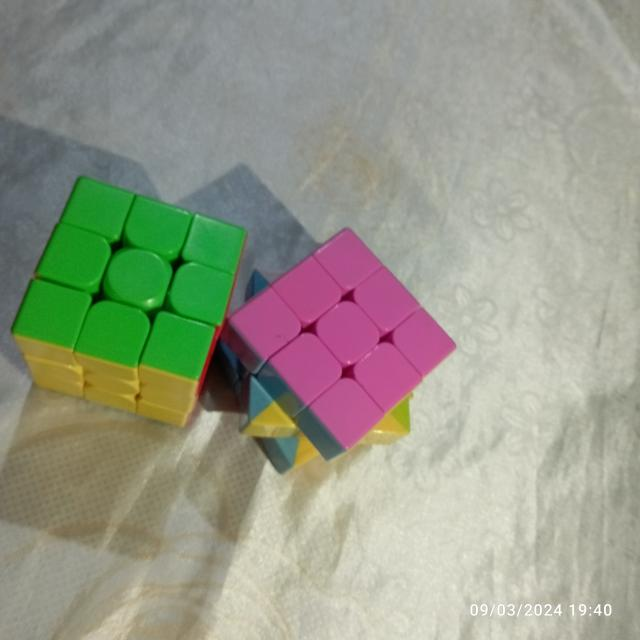Rub: (4, 168, 253, 430), (220, 225, 460, 478)
